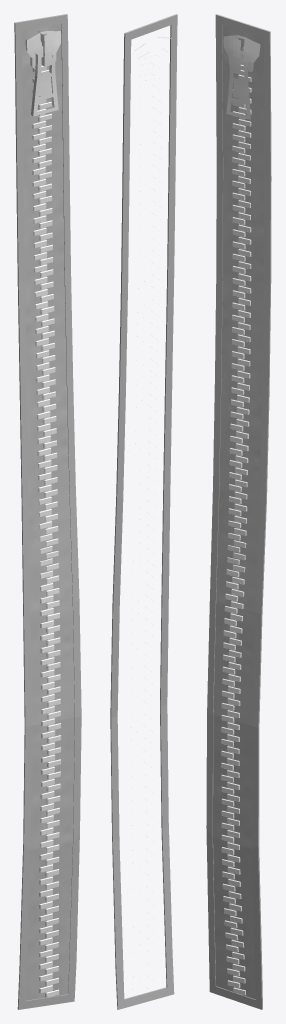
Rendered from Ziplock_R.glb.
3 renders of one model, left to right at view 1: azimuth 30°, elevation 25°; view 2: azimuth 210°, elevation 25°; view 3: azimuth 330°, elevation 25°, orthographic.
Parts seen in each view (by area): view 1: Cloth1, Rope1, Ziplock_R1; view 2: Rope1, Ziplock_R1; view 3: Cloth1, Rope1, Ziplock_R1.
Part boxes in pixels (left/top/right/bottom): Cloth1: left=21, top=24, right=74, bottom=1000; Rope1: left=14, top=14, right=81, bottom=1009; Ziplock_R1: left=25, top=30, right=61, bottom=997; Rope1: left=110, top=14, right=177, bottom=1009; Ziplock_R1: left=131, top=37, right=170, bottom=988; Cloth1: left=213, top=25, right=264, bottom=999; Rope1: left=206, top=14, right=271, bottom=1009; Ziplock_R1: left=221, top=35, right=260, bottom=995.
Size of the model in its own units: 0.0166 by 0.2747 by 0.00873.
3 materials, 3 textured.
